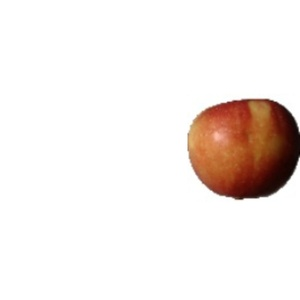maçã braeburn: (182, 96, 299, 202)
